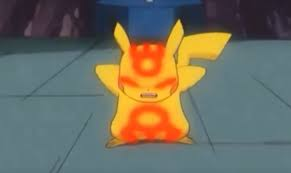pikachu: (95, 16, 232, 151)
